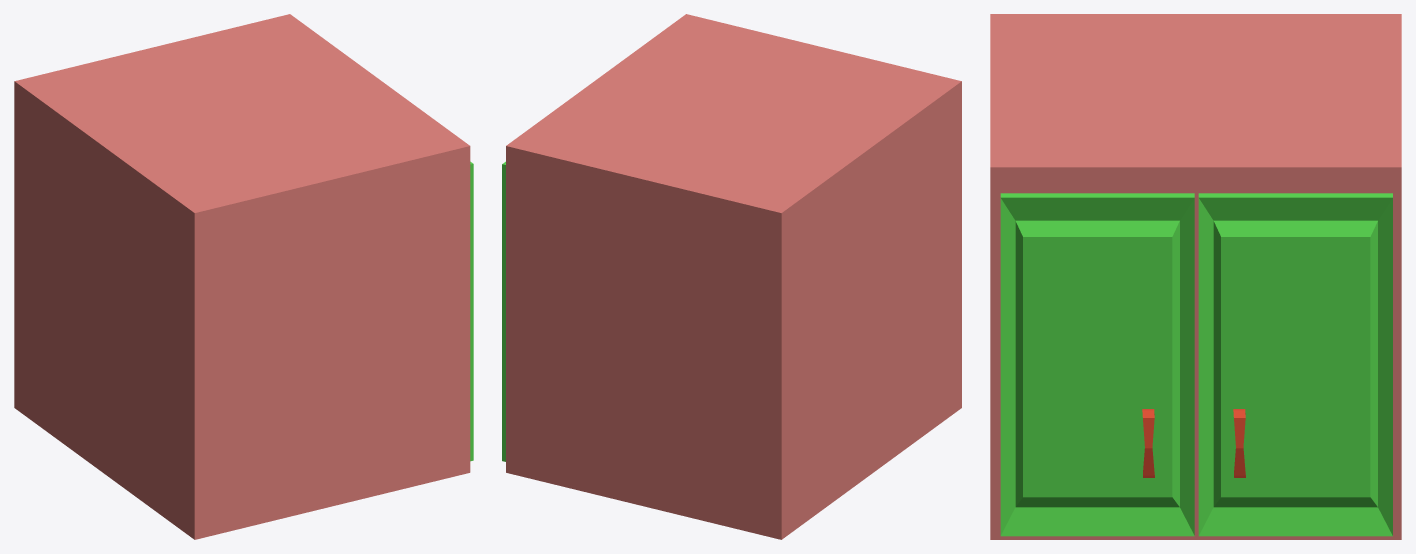
Rendered from kitchencounter3.fbx.
3 renders of one model, left to right at view 1: azimuth 30°, elevation 25°; view 2: azimuth 150°, elevation 25°; view 3: azimuth 270°, elevation 25°, orthographic. The views are drawn at different scales.
Visible parts, largest first — view 1: cupboard, doors; view 2: cupboard, doors; view 3: doors, cupboard, handles.
Boxes of the visible parts, x1,y1,x2,y2 form: cupboard: [14, 14, 470, 539]; doors: [470, 161, 473, 461]; cupboard: [506, 14, 961, 539]; doors: [502, 161, 505, 461]; doors: [1000, 193, 1392, 536]; cupboard: [990, 14, 1401, 539]; handles: [1142, 409, 1245, 477].
Size of the model in its own units: 188 by 200 by 200.
